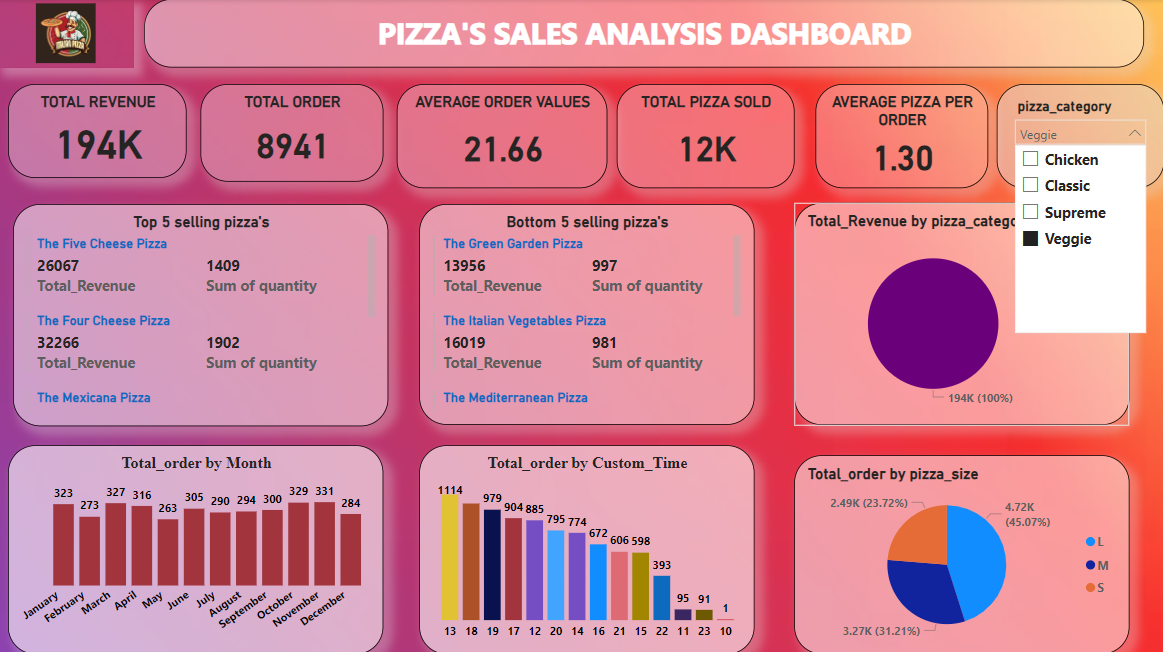

This screenshot's page, from the dashboard's own definition file:
{"tool":"powerbi","page":{"name":"Page 2","canvas":[1280,720],"ordinal":0},"visuals":[{"type":"card","title":"TOTAL REVENUE","fields":{"Values":["pizza_sales (2).Total_Revenue"]},"box":[11.1,93.3,196.3,103],"z":0},{"type":"card","title":"TOTAL ORDER","fields":{"Values":["pizza_sales (2).Total_order"]},"box":[222.8,93.3,200.5,107.2],"z":1000},{"type":"card","title":"AVERAGE ORDER VALUES","fields":{"Values":["pizza_sales (2).Average_order_values"]},"box":[437.2,93.3,231.2,114.2],"z":2000},{"type":"card","title":"TOTAL PIZZA SOLD","fields":{"Values":["pizza_sales (2).Total_pizza_sold"]},"box":[679.5,93.3,195,114.2],"z":3000},{"type":"card","title":"AVERAGE PIZZA PER ORDER","fields":{"Values":["pizza_sales (2).Average_pizzas_per_order"]},"box":[896.8,93.3,189.4,114.2],"z":4000},{"type":"textbox","box":[160.1,0,1097.3,75.2],"z":5000},{"type":"image","box":[0,0,149,75.2],"z":6000},{"type":"slicer","fields":{"Values":["pizza_sales (2).pizza_category"]},"box":[1095.9,93.3,183.8,114.2],"z":7000},{"type":"columnChart","fields":{"Category":["pizza_sales (2).order_date.Variation.Date Hierarchy.Month"],"Y":["pizza_sales (2).Total_order"]},"box":[11.1,490.2,412.2,229.8],"z":8000},{"type":"pieChart","fields":{"Category":["pizza_sales (2).pizza_category"],"Y":["pizza_sales (2).Total_Revenue"]},"box":[874.5,224.2,367.6,243.7],"z":9000},{"type":"multiRowCard","title":"Bottom 5 selling pizza''s","fields":{"Values":["pizza_sales (2).pizza_name","pizza_sales (2).Total_Revenue","Sum(pizza_sales (2).quantity)"]},"box":[462.3,225.6,367.6,242.3],"z":10000},{"type":"multiRowCard","title":"Top 5 selling pizza''s","fields":{"Values":["pizza_sales (2).pizza_name","pizza_sales (2).Total_Revenue","Sum(pizza_sales (2).quantity)"]},"box":[16.7,225.6,412.2,243.7],"z":11000},{"type":"pieChart","fields":{"Category":["pizza_sales (2).pizza_size"],"Y":["pizza_sales (2).Total_order"]},"box":[874.5,501.3,367.6,218.6],"z":12000},{"type":"columnChart","fields":{"Category":["pizza_sales (2).Custom_Time"],"Y":["pizza_sales (2).Total_order"]},"box":[462.3,490.2,367.6,229.8],"z":13000}]}

Visuals, with their boxes in screenshot pixels (x1, y1, x2, y2), scaled from the page's 1280x720 canvas onto the 1163x652 screenshot:
"TOTAL REVENUE" card: [10, 84, 188, 178]
"TOTAL ORDER" card: [202, 84, 385, 182]
"AVERAGE ORDER VALUES" card: [397, 84, 607, 188]
"TOTAL PIZZA SOLD" card: [617, 84, 795, 188]
"AVERAGE PIZZA PER ORDER" card: [815, 84, 987, 188]
textbox: [145, 0, 1142, 68]
image: [0, 0, 135, 68]
slicer - pizza_sales (2).pizza_category: [996, 84, 1162, 188]
columnChart - pizza_sales (2).order_date.Variation.Date Hierarchy.Month x pizza_sales (2).Total_order: [10, 444, 385, 651]
pieChart - pizza_sales (2).pizza_category x pizza_sales (2).Total_Revenue: [795, 203, 1129, 424]
"Bottom 5 selling pizza''s" multiRowCard: [420, 204, 754, 424]
"Top 5 selling pizza''s" multiRowCard: [15, 204, 390, 425]
pieChart - pizza_sales (2).pizza_size x pizza_sales (2).Total_order: [795, 454, 1129, 651]
columnChart - pizza_sales (2).Custom_Time x pizza_sales (2).Total_order: [420, 444, 754, 651]
